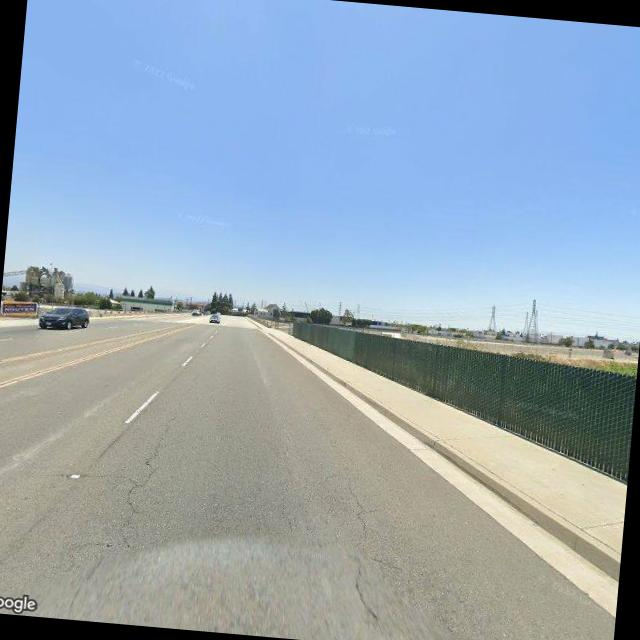pothole: (112, 422, 166, 550), (338, 476, 378, 544)
